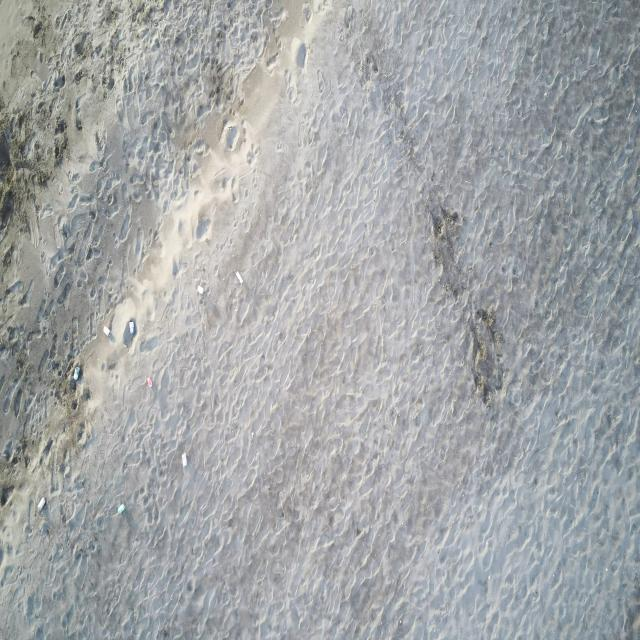tin-and-aluminum-cans: (38, 497, 46, 511), (73, 366, 80, 381), (236, 271, 243, 285), (103, 326, 111, 338), (129, 320, 135, 336), (118, 503, 125, 515), (146, 376, 153, 388), (182, 452, 187, 467), (197, 285, 204, 295)
